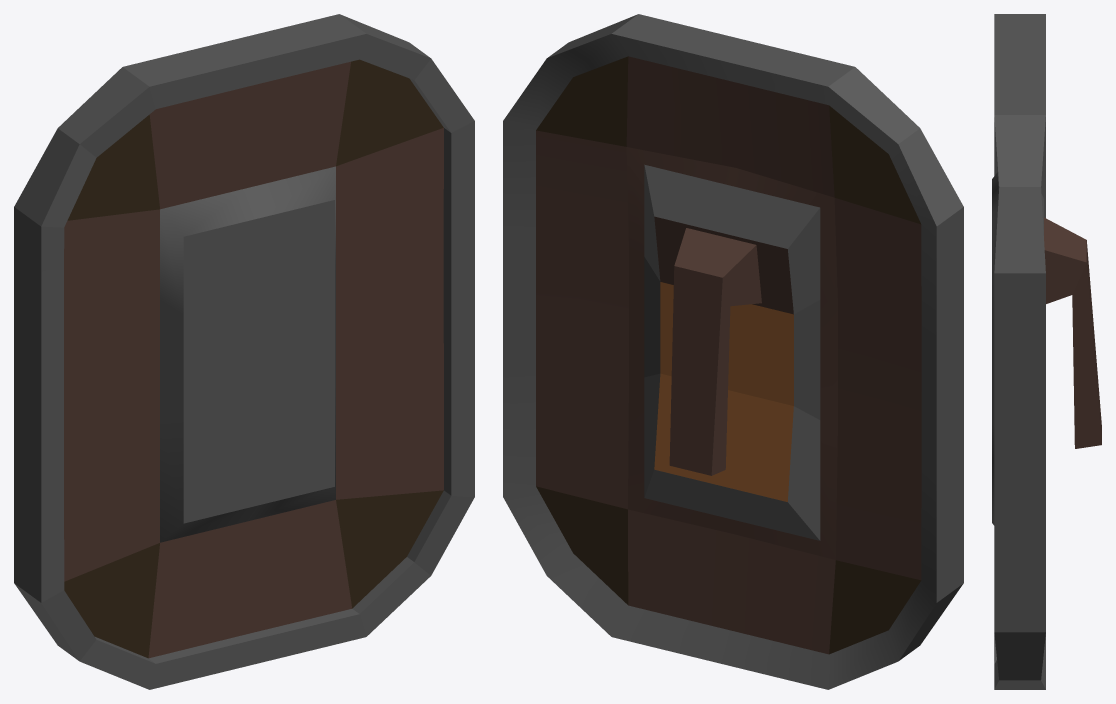
File: Shield.fbx
The picture shows the model from 3 angles, left to right: view 1: azimuth 30°, elevation 25°; view 2: azimuth 150°, elevation 25°; view 3: azimuth 270°, elevation 25°; orthographic projection. The views are drawn at different scales.
Parts seen in each view (by area): view 1: Shield; view 2: Shield; view 3: Shield.
Boxes of the visible parts, x1,y1,x2,y2 form: Shield: [14, 14, 474, 689]; Shield: [503, 14, 963, 689]; Shield: [992, 14, 1101, 689].
Size of the model in its own units: 247 by 328 by 56.76.
